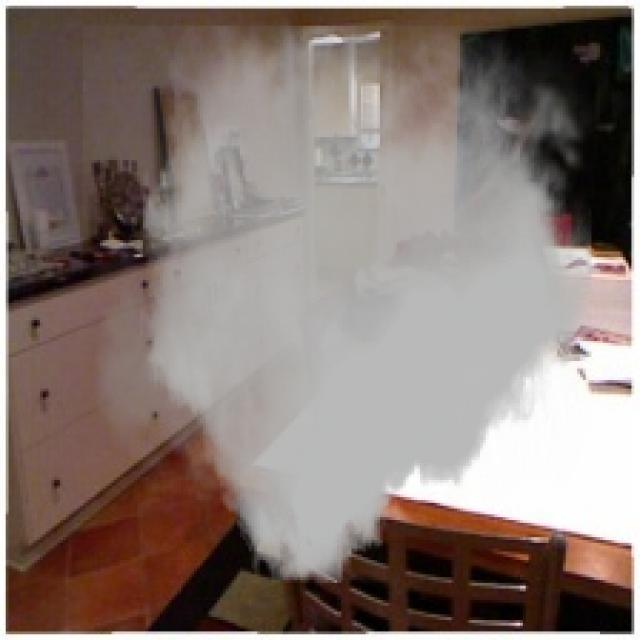Smoke: (83, 26, 600, 583)
